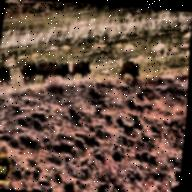boar: (64, 59, 97, 94), (46, 55, 79, 88), (116, 53, 144, 86), (19, 57, 42, 86), (38, 58, 58, 89)
